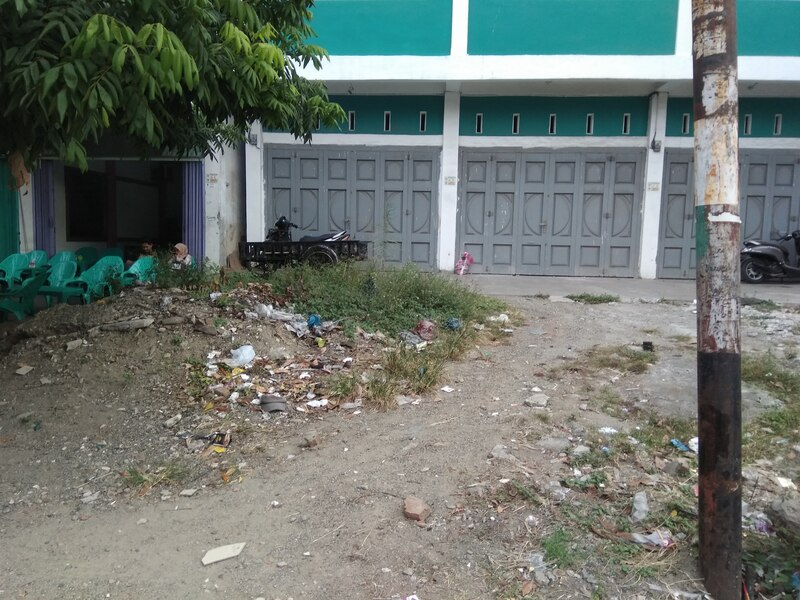becak barang: (241, 206, 371, 281)
